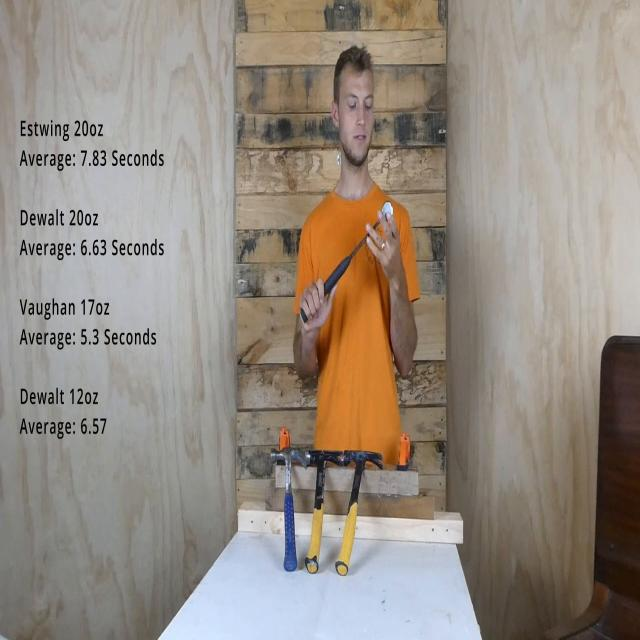hammer: (298, 194, 397, 328), (334, 441, 386, 579), (266, 442, 307, 576), (304, 444, 344, 578)
